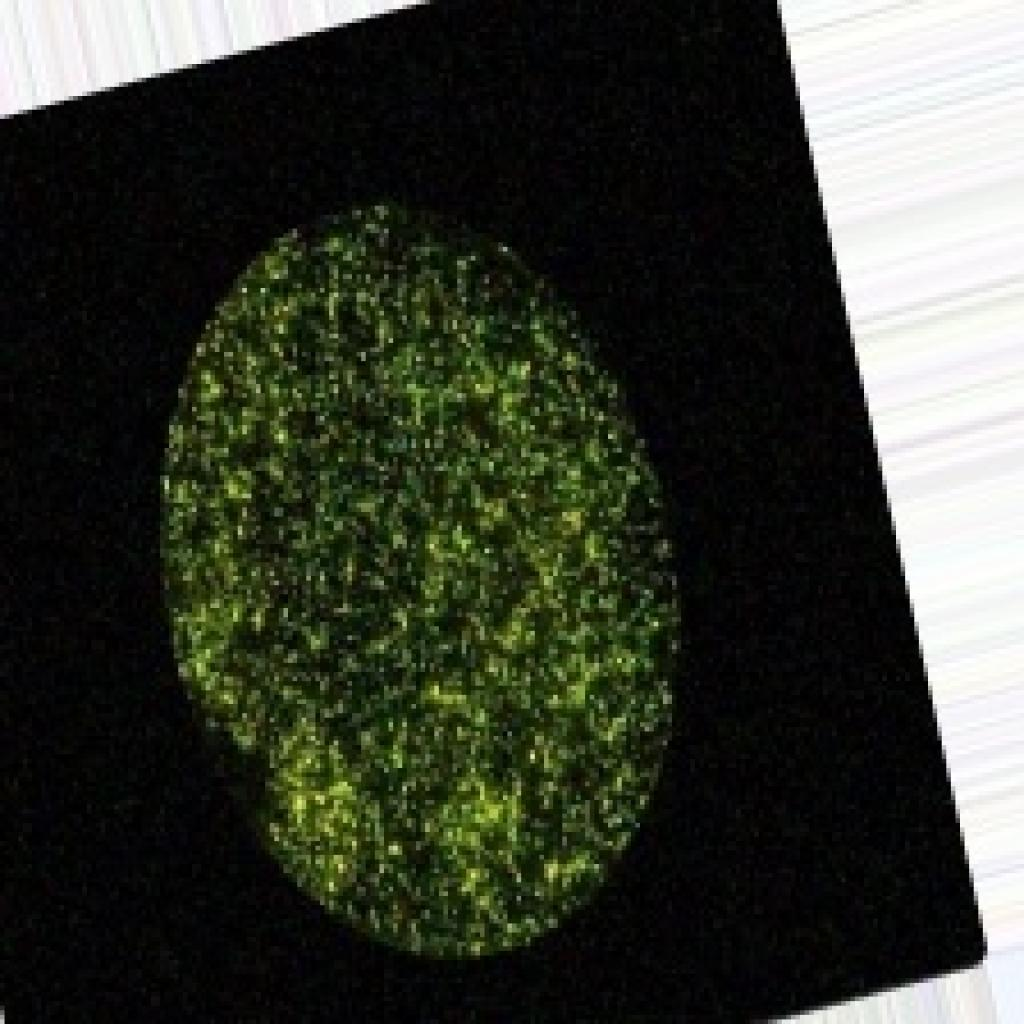Sphericalbacteria: (155, 197, 686, 960)
